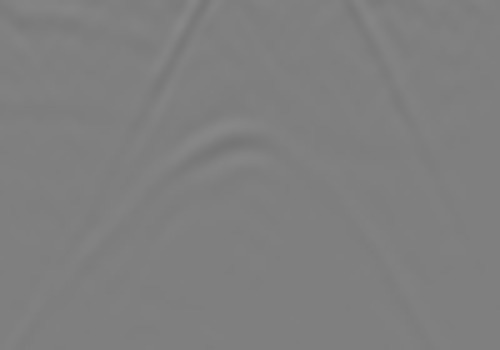hyperbola: (45, 118, 447, 330)
